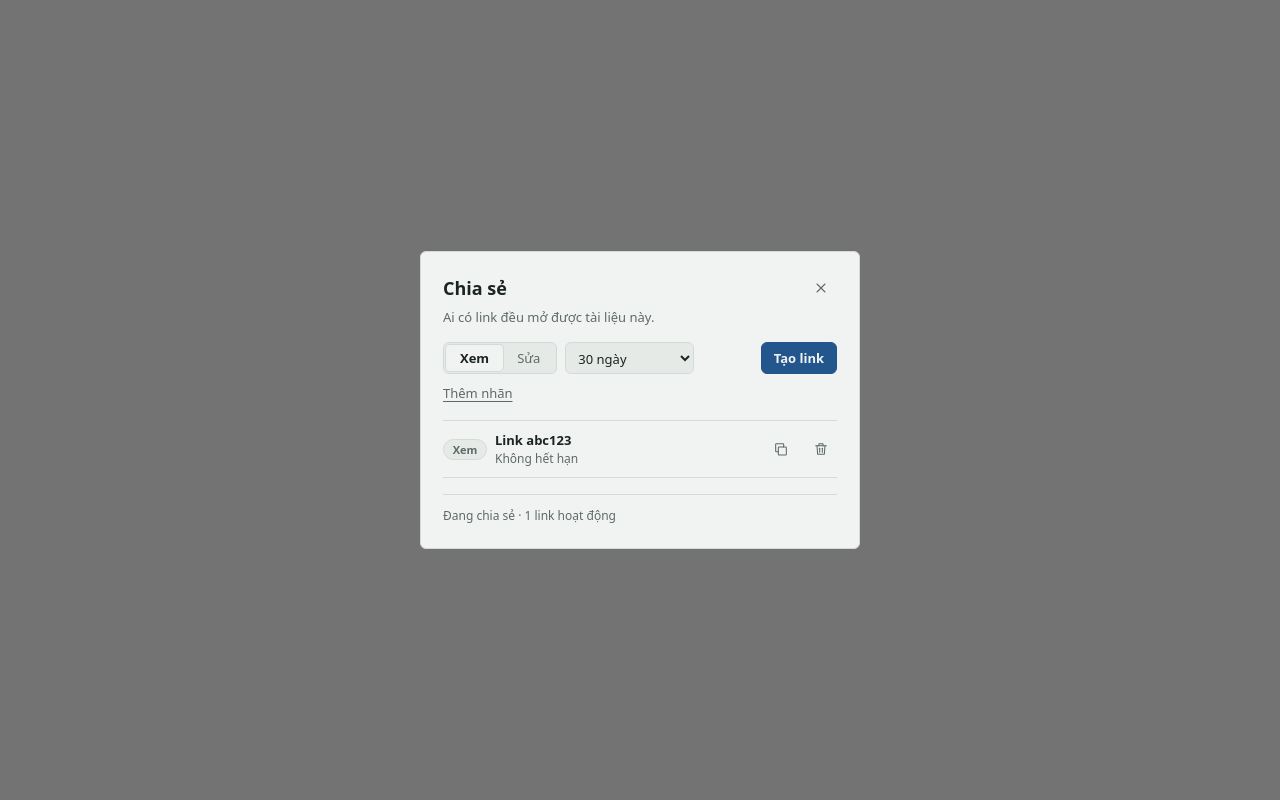
Test case: ShareModal › copy writes url and shows Đã sao chép
Click the button named "Sao chép link". click: (781, 449)
box: [765,433,797,465]
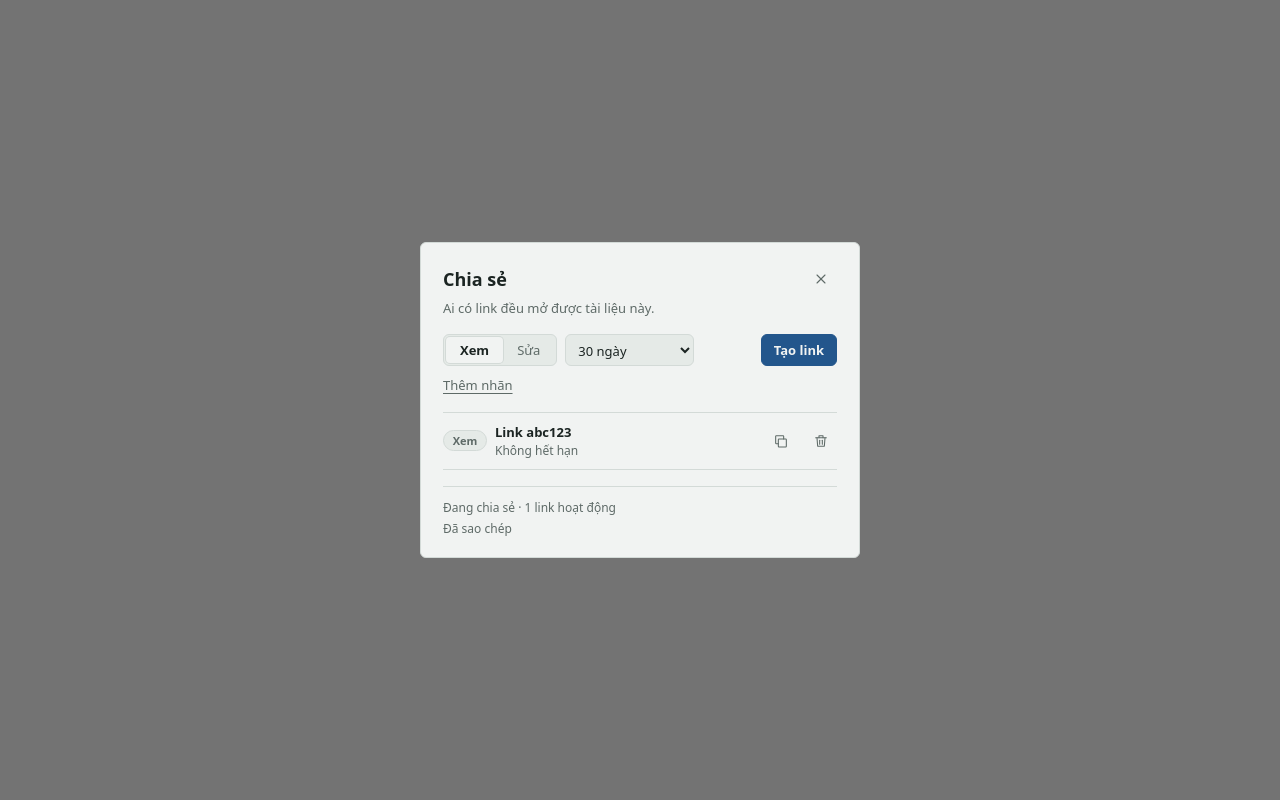
Expected: the message reads "Đã sao chép", [443,520,512,537]
